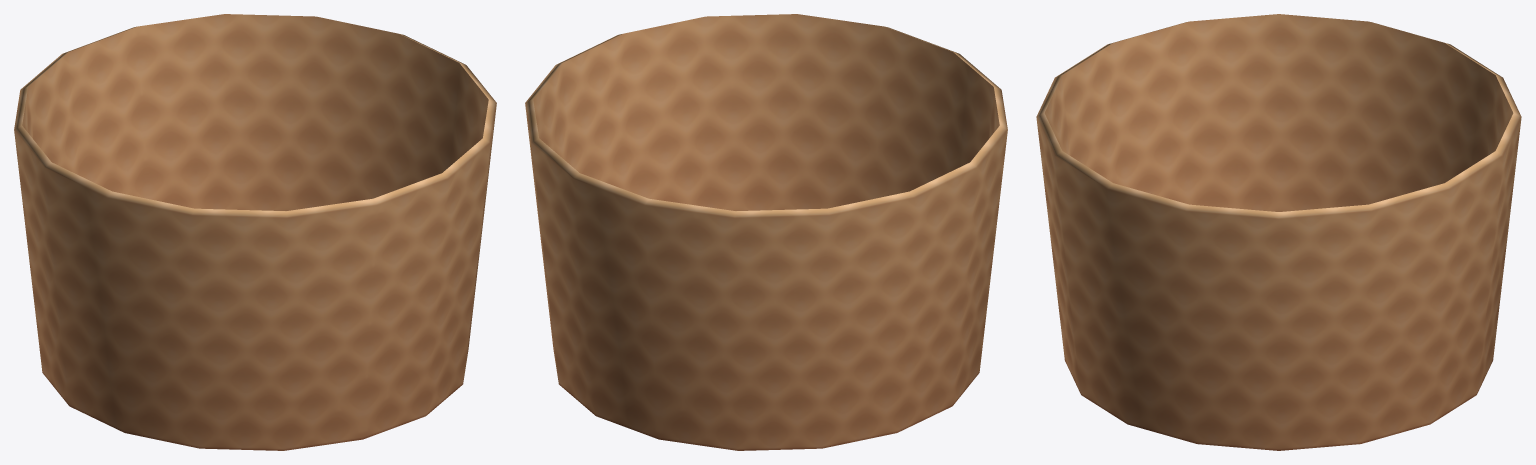
Rendered from ToGo_Jacket_03.fbx.
The picture shows the model from 3 angles, left to right: view 1: azimuth 30°, elevation 25°; view 2: azimuth 150°, elevation 25°; view 3: azimuth 270°, elevation 25°; orthographic projection.
Visible parts, largest first — view 1: ToGo_Jacket_03; view 2: ToGo_Jacket_03; view 3: ToGo_Jacket_03.
Boxes of the visible parts, x1=… form: ToGo_Jacket_03: x1=14, y1=14, x2=496, y2=450; ToGo_Jacket_03: x1=525, y1=14, x2=1007, y2=450; ToGo_Jacket_03: x1=1036, y1=14, x2=1521, y2=450.
Size of the model in its own units: 36.13 by 20.57 by 36.13.
